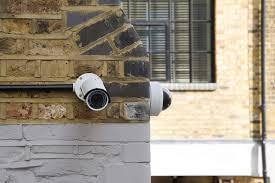Security camera: (72, 72, 110, 111), (147, 79, 174, 118)
